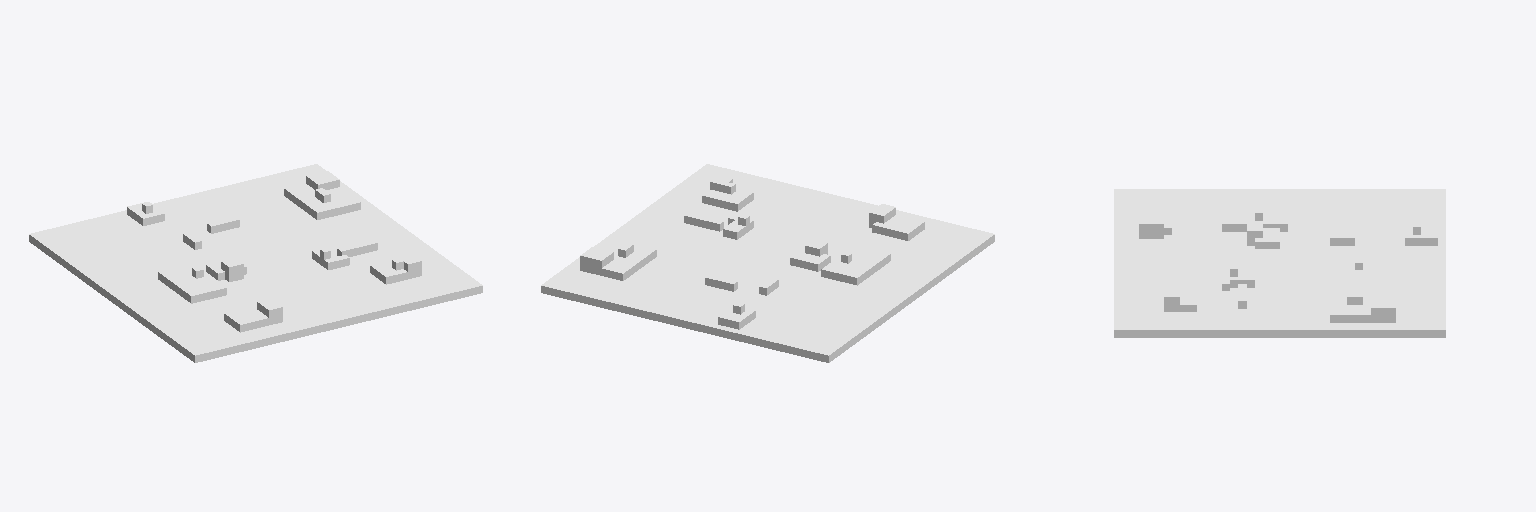
The model's file is BloodFloor.obj.
3 renders of one model, left to right at view 1: azimuth 30°, elevation 25°; view 2: azimuth 150°, elevation 25°; view 3: azimuth 270°, elevation 25°, orthographic.
Parts seen in each view (by area): view 1: object 1; view 2: object 1; view 3: object 1.
Boxes of the visible parts, x1,y1,x2,y2 form: object 1: [29, 164, 482, 362]; object 1: [541, 164, 994, 362]; object 1: [1114, 189, 1445, 337].
Size of the model in its own units: 4 by 0.3 by 4.